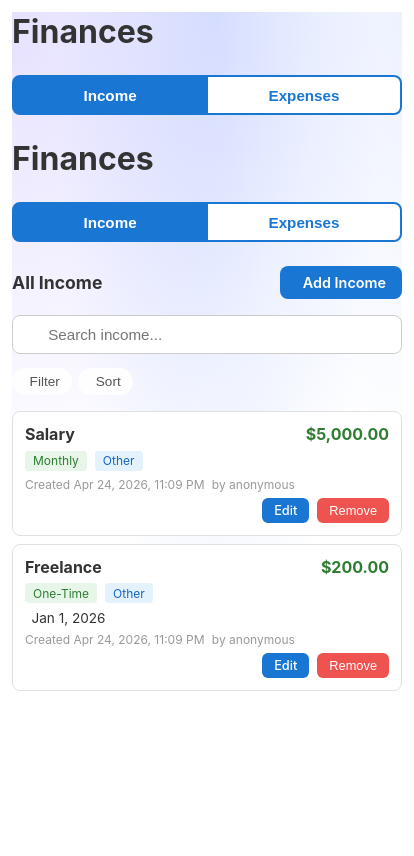
Test: FinancesView › filters income list by search query
Expected: the number of elements with class "list-item" is 2, [12,412,402,536]; [12,544,402,691]
In the field with class "search-input": (207, 334) [12,315,402,354], type "Salary"
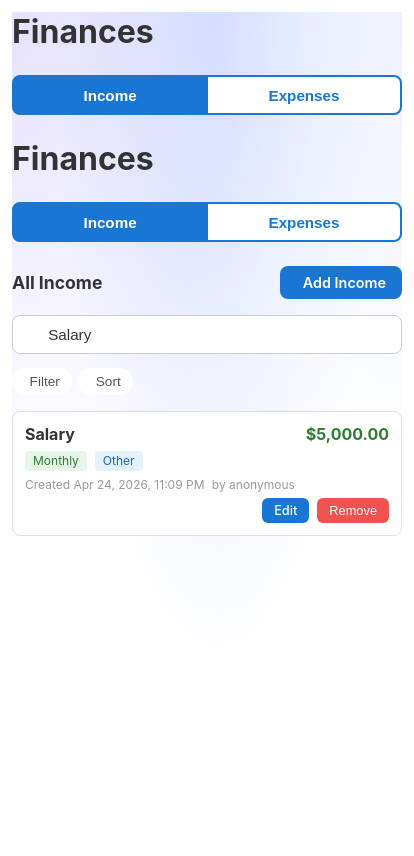
Expected: the element with class "list-item" shows "Salary", [25,424,75,444]
Result: the number of elements with class "list-item" is 1 at [12,412,402,536]
